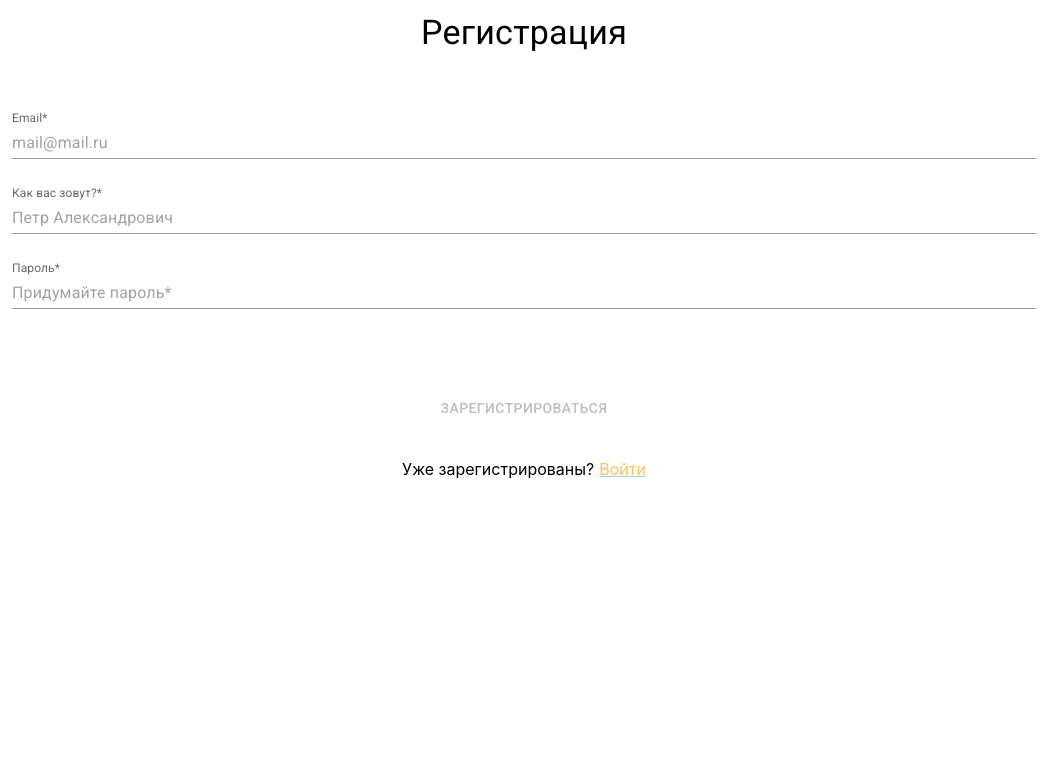
Test: RegistrationForm › with invalid inputs › renders the validation errors
Type "invalidemail" into the field labelled "Email*". click: [524, 143]
box: top-left (12, 127), bottom-right (1036, 159)
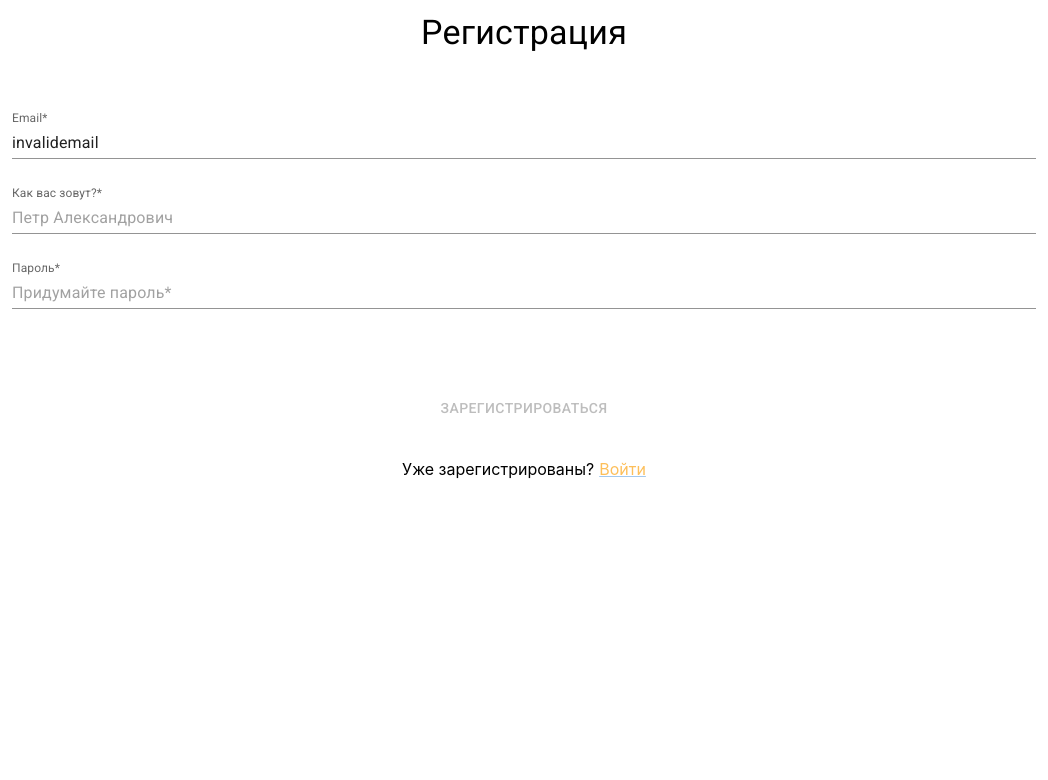
Type "j" into the password field labelled "Пароль*". click: [524, 293]
box: top-left (12, 277), bottom-right (1036, 309)
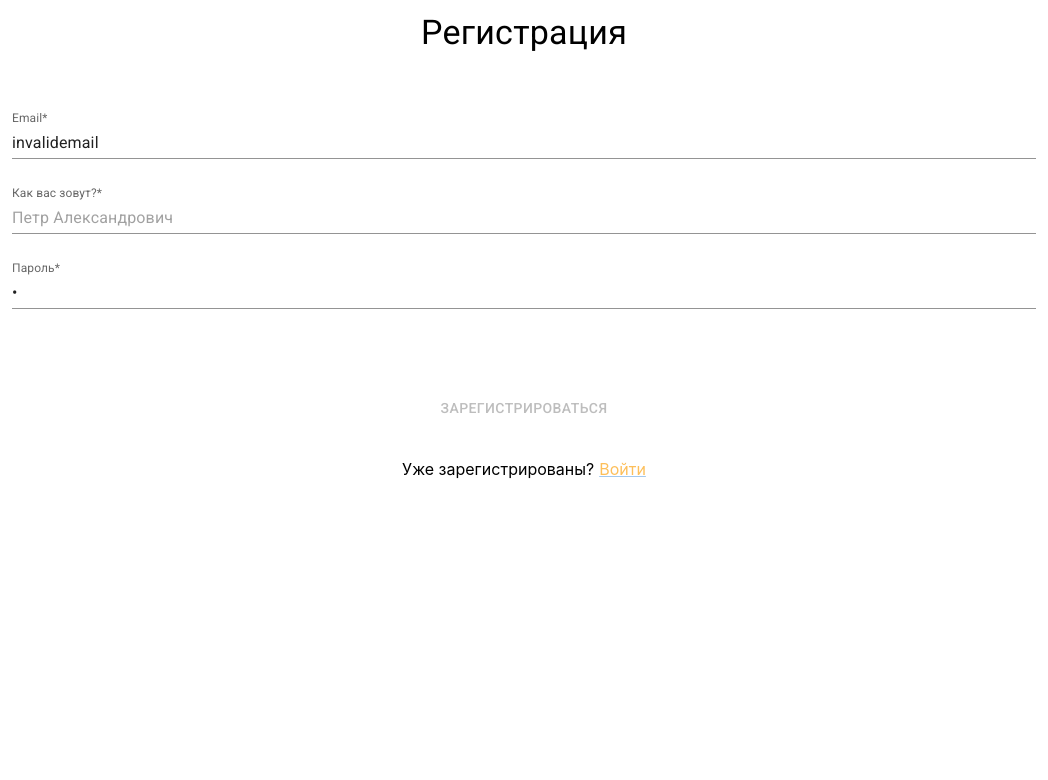
Clear the password field labelled "Пароль*". click: [524, 293]
box: top-left (12, 277), bottom-right (1036, 309)
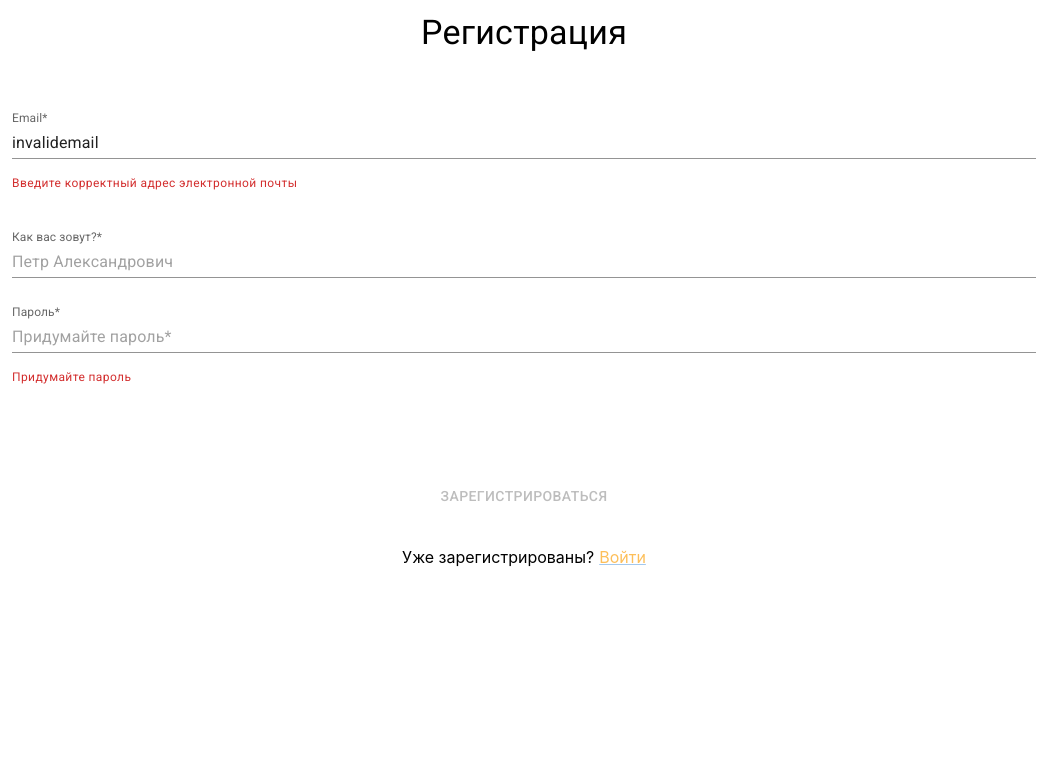
Result: the text "Введите корректный адрес электронной почты" is shown at top-left (12, 176), bottom-right (297, 190)
Result: the text "Придумайте пароль" is shown at top-left (12, 370), bottom-right (131, 384)
